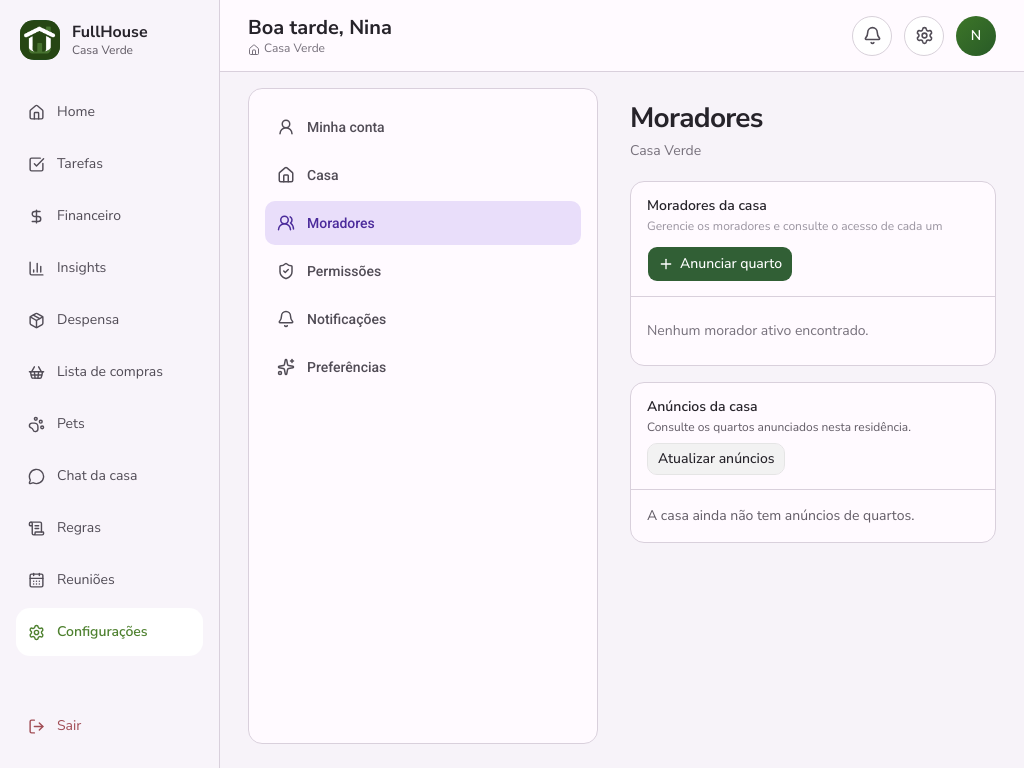
Publicar quarto em Moradores › permite ao administrador abrir a ação no cabeçalho vazio e cancelar com Escape
Click the button "Anunciar quarto".
click(720, 264)  # box [647,246,793,282]
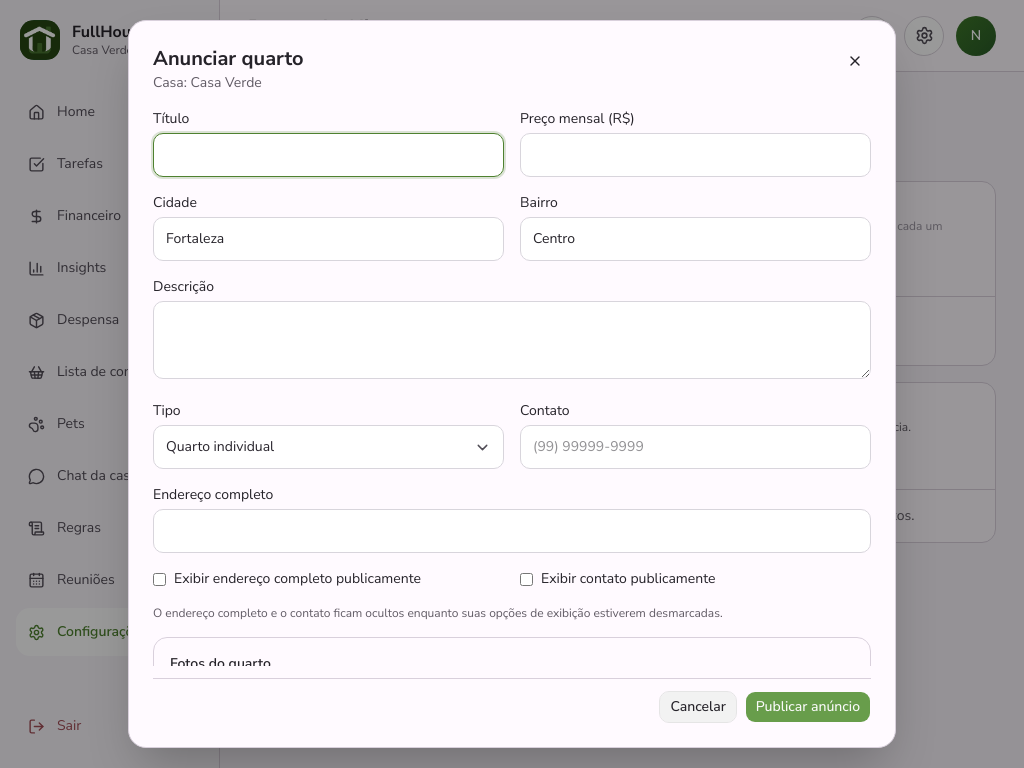
Expected: the text "Casa: Casa Verde" is shown, [153,73,262,92]
Expected: the field labelled "Cidade" holds "Fortaleza", [153,217,504,261]
Expected: the field labelled "Bairro" holds "Centro", [520,217,871,261]
Press Escape
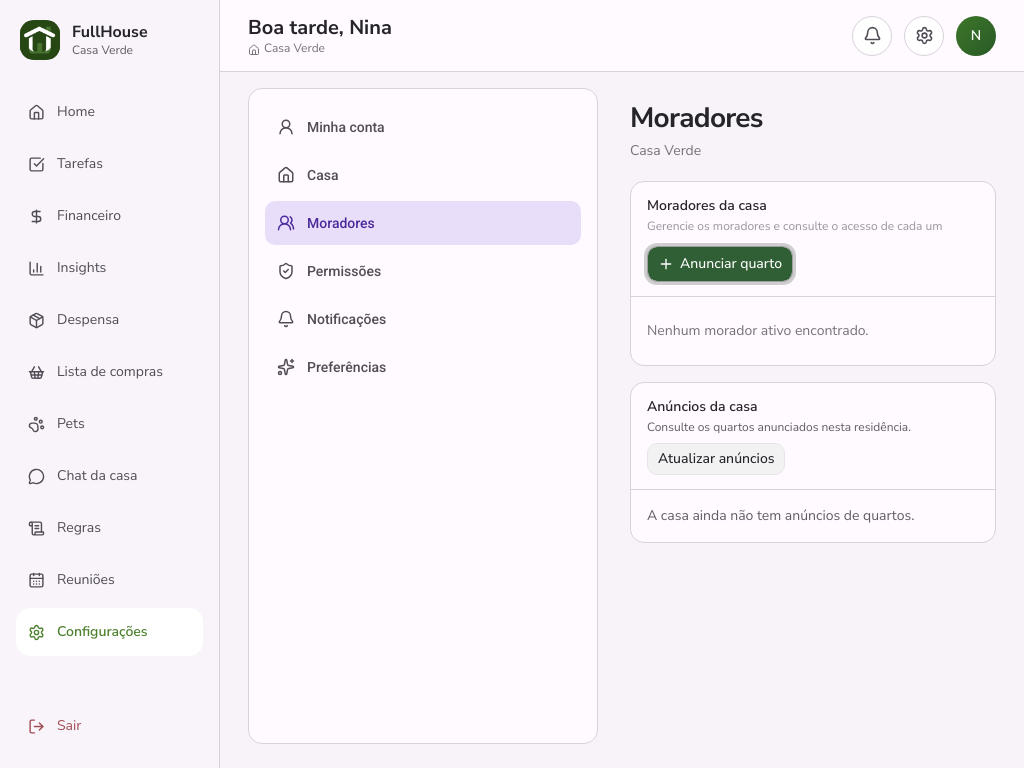
Expected: the dialog is gone
